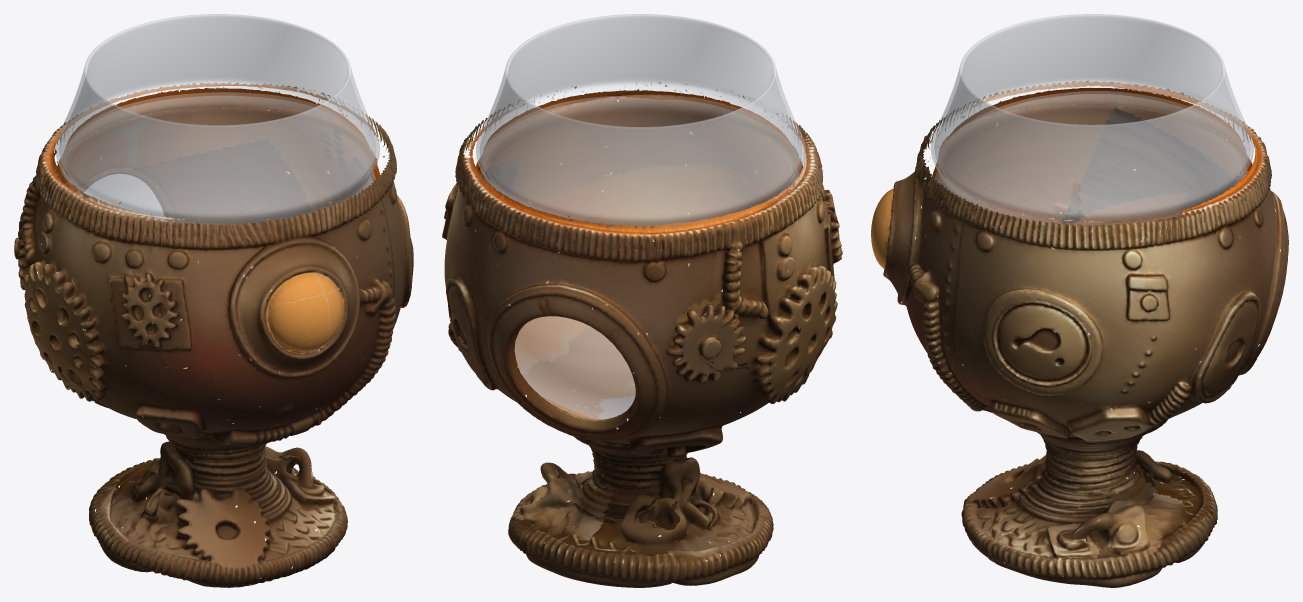
Rendered from bokal-fixed-2.glb.
3 renders of one model, left to right at view 1: azimuth 30°, elevation 25°; view 2: azimuth 150°, elevation 25°; view 3: azimuth 270°, elevation 25°, orthographic.
Visible parts, largest first — view 1: bokal; view 2: bokal; view 3: bokal.
Part boxes in pixels (x1,y1,x2,y2): bokal: (14, 14, 413, 587); bokal: (442, 14, 842, 587); bokal: (871, 14, 1288, 587).
Bounding box in the file's own units: 1.31 × 1.72 × 1.39.
2 materials, 1 textured.
